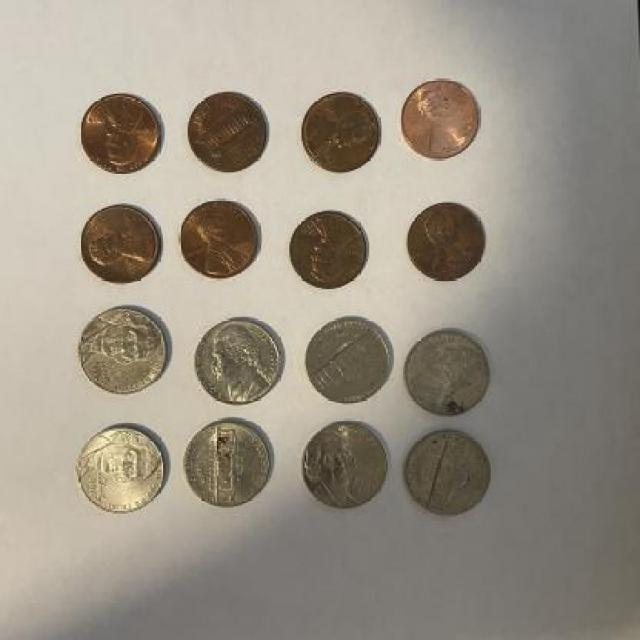Nickel: (76, 418, 170, 517), (76, 304, 172, 398), (302, 417, 396, 512), (194, 314, 286, 408), (402, 428, 496, 518), (181, 417, 274, 506), (303, 314, 394, 404), (404, 328, 496, 417)
Penny: (294, 88, 389, 184), (72, 90, 170, 178), (400, 72, 486, 166), (74, 198, 163, 288), (404, 197, 490, 288), (288, 206, 372, 294), (180, 196, 262, 286), (186, 88, 269, 172)
